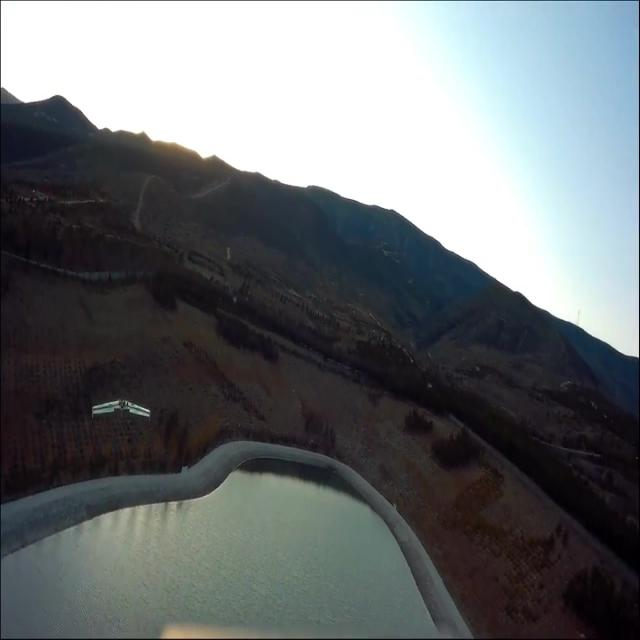iha: (27, 397, 88, 419)
